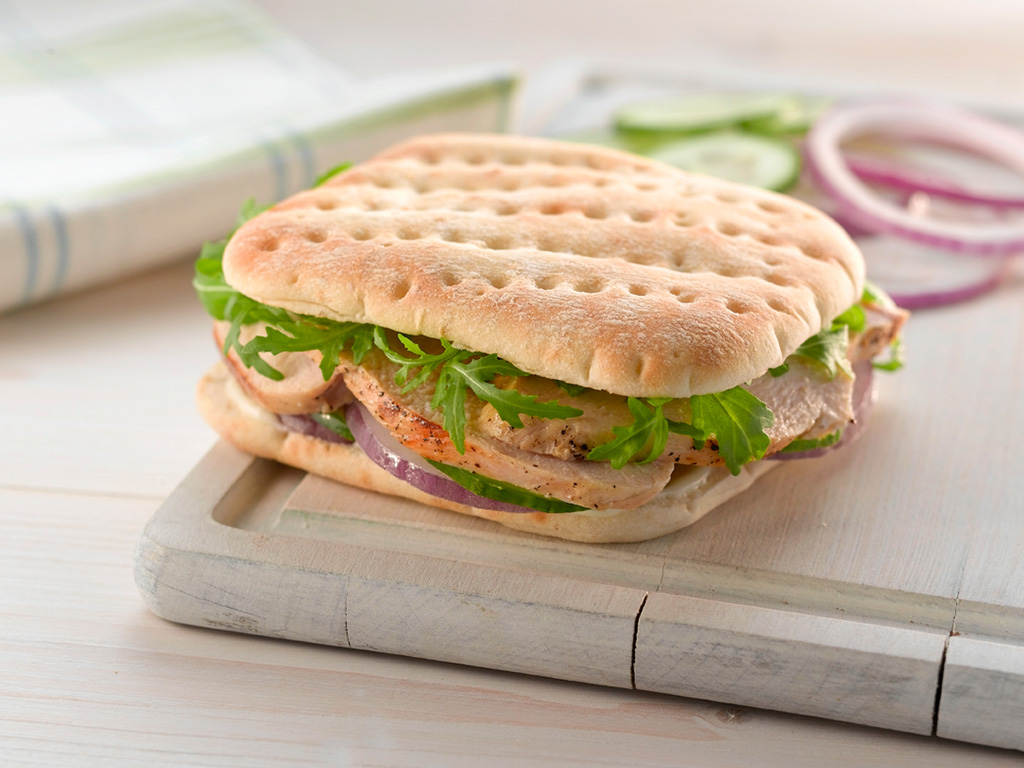sandwich: (187, 125, 902, 547)
